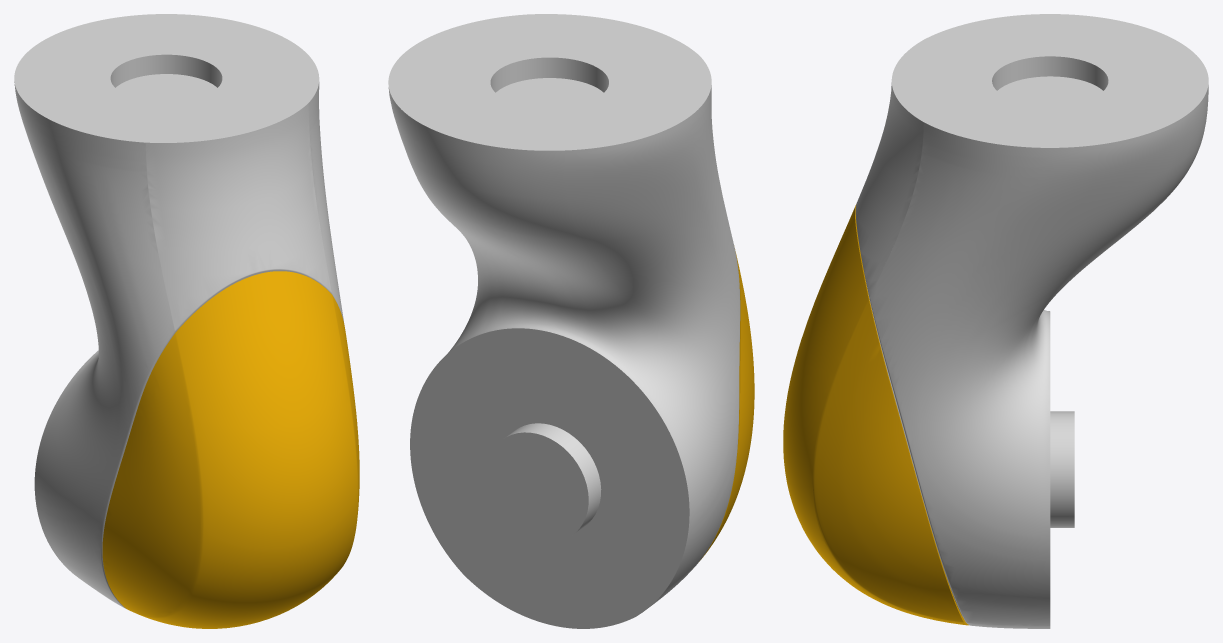
3 views of the same model, side by side, from view 1: azimuth 30°, elevation 25°; view 2: azimuth 150°, elevation 25°; view 3: azimuth 270°, elevation 25° (orthographic). The views are drawn at different scales.
Visible parts, largest first — view 1: node0, node1; view 2: node0, node1; view 3: node0, node1.
Boxes of the visible parts, x1,y1,x2,y2 form: node0: [14, 14, 344, 608]; node1: [102, 271, 359, 628]; node0: [388, 14, 740, 628]; node1: [699, 249, 754, 561]; node0: [855, 14, 1208, 628]; node1: [783, 204, 968, 625].
Bounding box in the file's own units: 0.136 × 0.1826 × 0.252.
